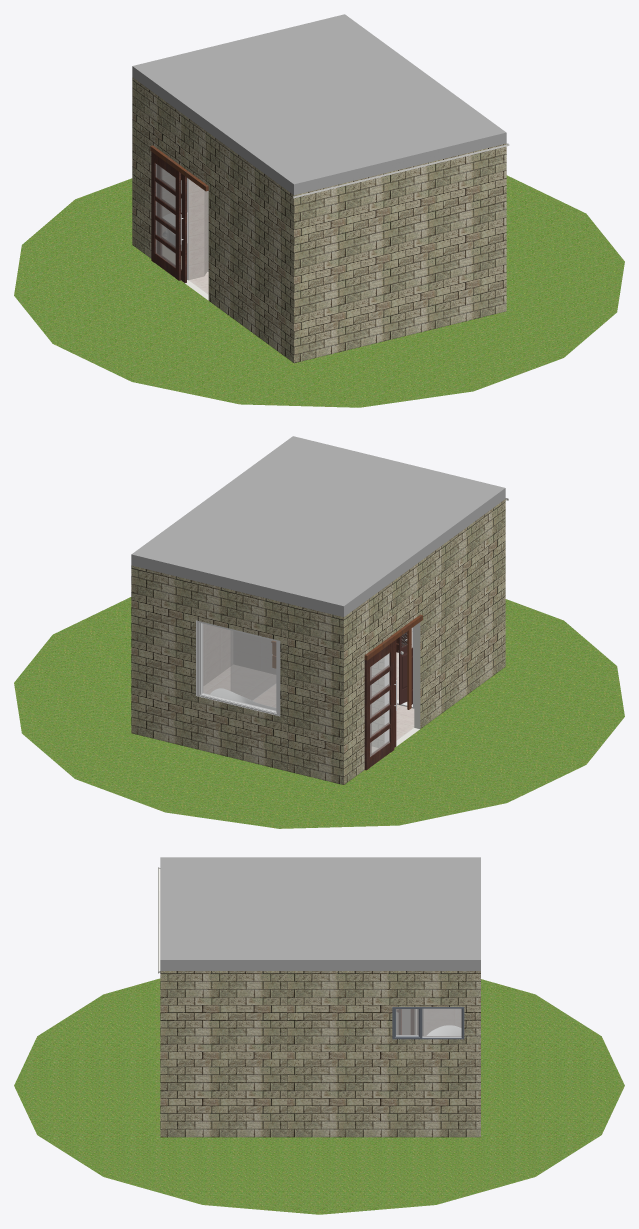
The model's file is extrior_bathroom.glb.
3 renders of one model, top to bottom at view 1: azimuth 30°, elevation 25°; view 2: azimuth 150°, elevation 25°; view 3: azimuth 270°, elevation 25°, orthographic.
Visible parts, largest first — view 1: material-0 (×7), material-1 (×2), material-4, material-2; view 2: material-0 (×13), material-1 (×3), material-4, material-2 (×2); view 3: material-0 (×5), material-1, material-2.
Boxes of the visible parts, left/top/right/bottom form: material-0 (×7): left=14, top=14, right=624, bottom=407; material-1 (×2): left=151, top=152, right=204, bottom=282; material-4: left=155, top=164, right=181, bottom=269; material-2: left=155, top=177, right=181, bottom=255; material-0 (×13): left=14, top=436, right=624, bottom=828; material-1 (×3): left=196, top=620, right=396, bottom=770; material-4: left=370, top=653, right=389, bottom=756; material-2 (×2): left=370, top=636, right=412, bottom=742; material-0 (×5): left=14, top=857, right=624, bottom=1214; material-1: left=423, top=1008, right=461, bottom=1035; material-2: left=392, top=1007, right=464, bottom=1039.
Size of the model in its own units: 10.14 by 3.45 by 10.14.
42 materials, 12 textured.
